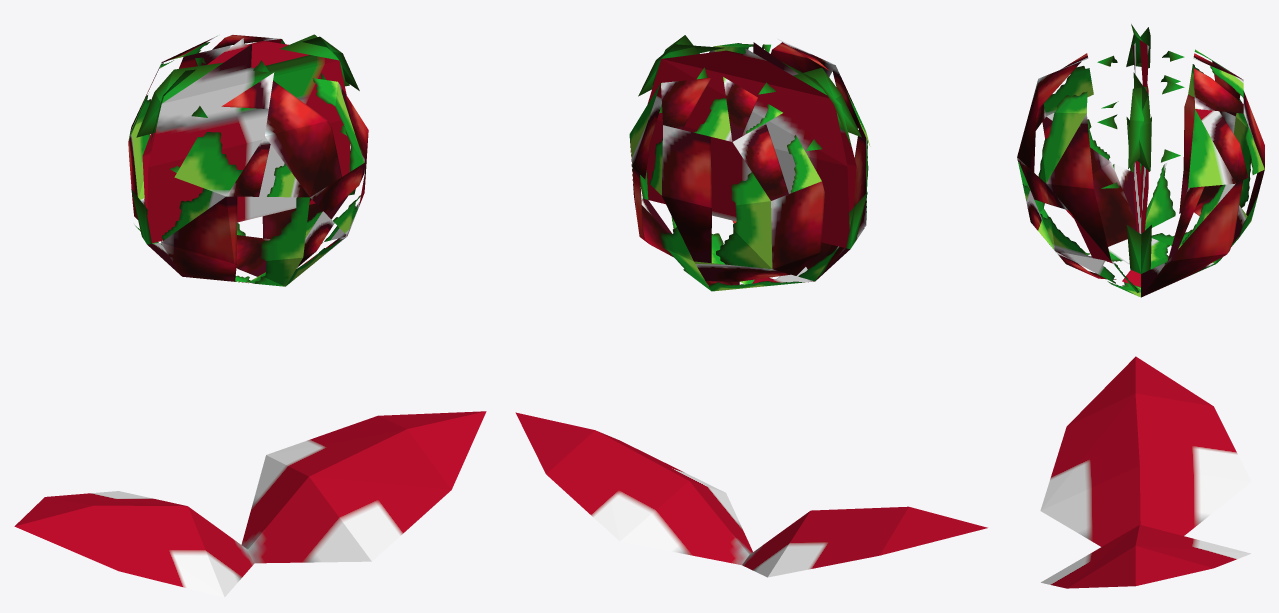
File: pakkun_model.obj
3 views of the same model, side by side, from view 1: azimuth 30°, elevation 25°; view 2: azimuth 150°, elevation 25°; view 3: azimuth 270°, elevation 25° (orthographic).
Parts seen in each view (by area): view 1: skl_root, hand_L, mouth_upper, mouth_lower, hand_R; view 2: skl_root, mouth_upper, hand_L, mouth_lower, hand_R; view 3: skl_root, mouth_upper, hand_R, mouth_lower, hand_L.
Boxes of the visible parts, <box> form: skl_root: <box>15,34,485,597</box>; hand_L: <box>248,411,486,563</box>; mouth_upper: <box>131,35,350,286</box>; mouth_lower: <box>151,36,368,285</box>; hand_R: <box>14,497,254,597</box>; skl_root: <box>515,35,987,577</box>; mouth_upper: <box>630,42,866,291</box>; hand_L: <box>595,430,752,554</box>; mouth_lower: <box>652,35,870,248</box>; hand_R: <box>811,506,908,555</box>; skl_root: <box>1017,34,1264,587</box>; mouth_upper: <box>1064,27,1264,296</box>; hand_R: <box>1040,356,1213,546</box>; mouth_lower: <box>1017,24,1184,296</box>; hand_L: <box>1041,525,1250,588</box>.
Size of the model in its own units: 36.22 by 40.86 by 16.51.
1 material, 1 textured.
